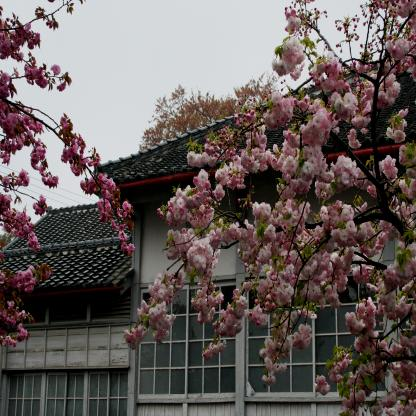YaeSakura: (125, 0, 416, 415), (0, 1, 136, 347), (134, 69, 282, 150)
